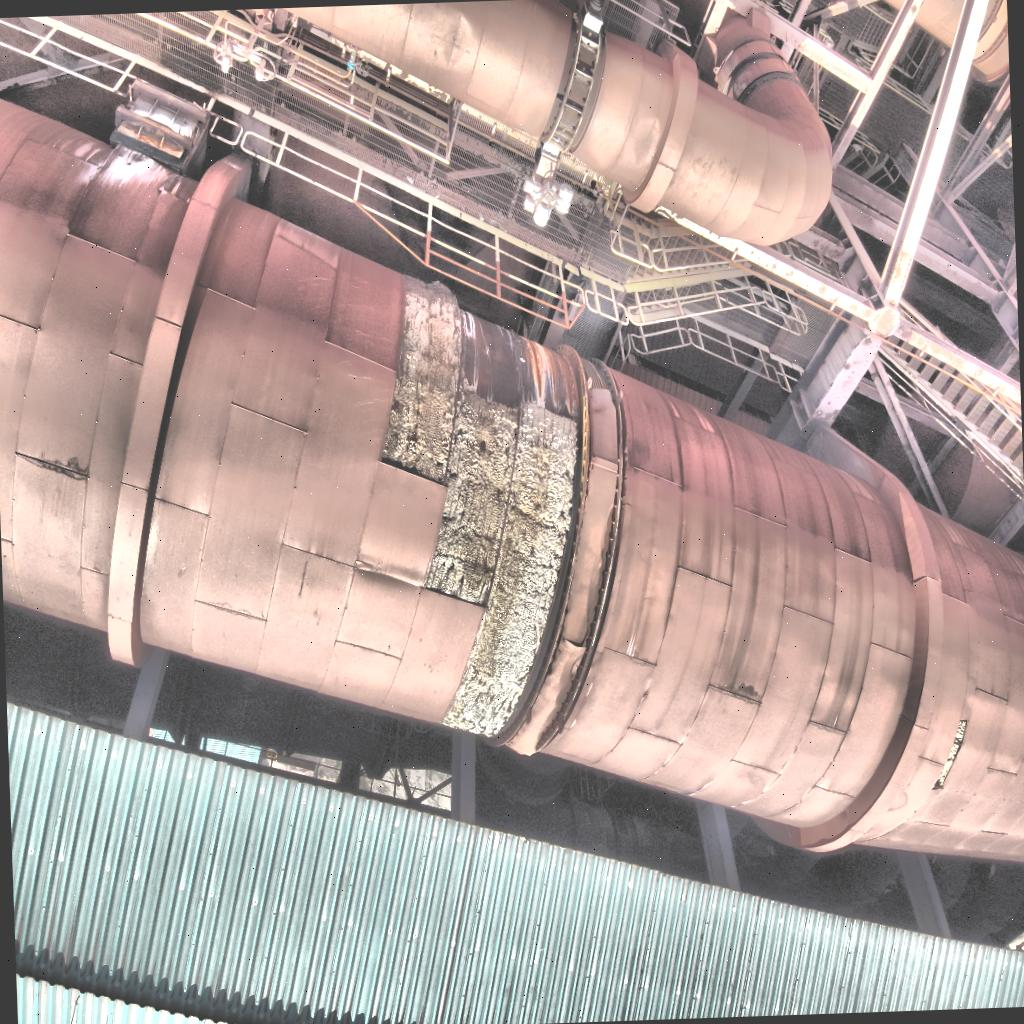Failures: (351, 222, 659, 747), (928, 672, 984, 804)
